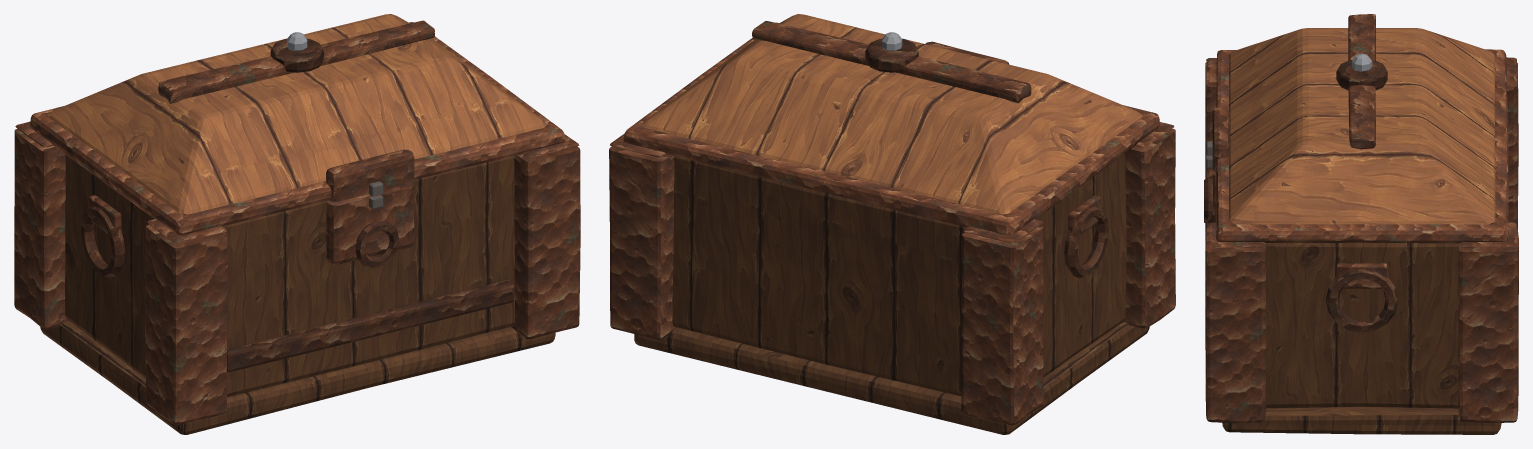
File: chest_copper.glb
3 renders of one model, left to right at view 1: azimuth 30°, elevation 25°; view 2: azimuth 150°, elevation 25°; view 3: azimuth 270°, elevation 25°, orthographic. The views are drawn at different scales.
Parts seen in each view (by area): view 1: model, lid; view 2: model, lid; view 3: lid, model.
Boxes of the visible parts, bbox=[...] form: model: bbox=[14, 128, 580, 434]; lid: bbox=[15, 14, 579, 243]; model: bbox=[609, 128, 1175, 434]; lid: bbox=[610, 14, 1174, 243]; lid: bbox=[1206, 14, 1517, 247]; model: bbox=[1204, 62, 1518, 434].
Bounding box in the file's own units: 1.06 × 0.7634 × 0.7382.
7 materials, 5 textured.
